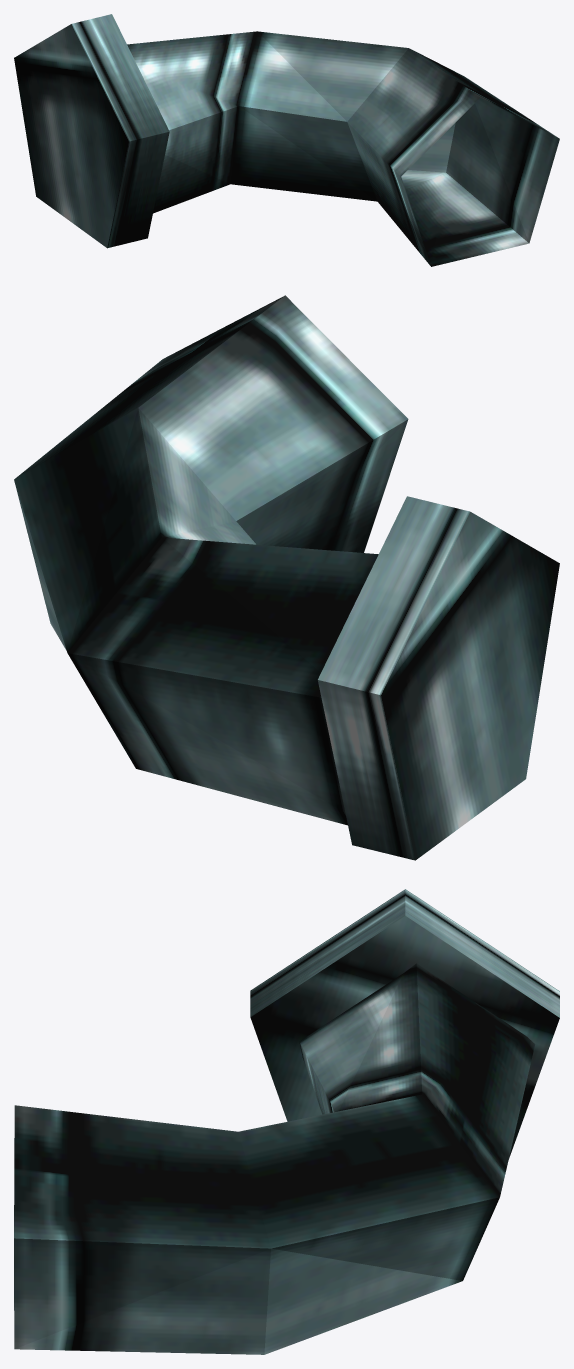
Rendered from Rohr_StückKurveDünn_1443.glb.
The picture shows the model from 3 angles, top to bottom: view 1: azimuth 30°, elevation 25°; view 2: azimuth 150°, elevation 25°; view 3: azimuth 270°, elevation 25°; orthographic projection. The views are drawn at different scales.
Visible parts, largest first — view 1: pCylinderShape75, pCylinderShape76; view 2: pCylinderShape75, pCylinderShape76; view 3: pCylinderShape75, pCylinderShape76.
Boxes of the visible parts, x1,y1,x2,y2 form: pCylinderShape75: [127, 31, 559, 266]; pCylinderShape76: [14, 14, 169, 248]; pCylinderShape75: [14, 295, 408, 825]; pCylinderShape76: [318, 496, 559, 860]; pCylinderShape75: [14, 963, 535, 1354]; pCylinderShape76: [250, 889, 559, 1159].
Size of the model in its own units: 0.8219 by 0.4542 by 0.8416.
Materials: 2 (2 with a texture image).
